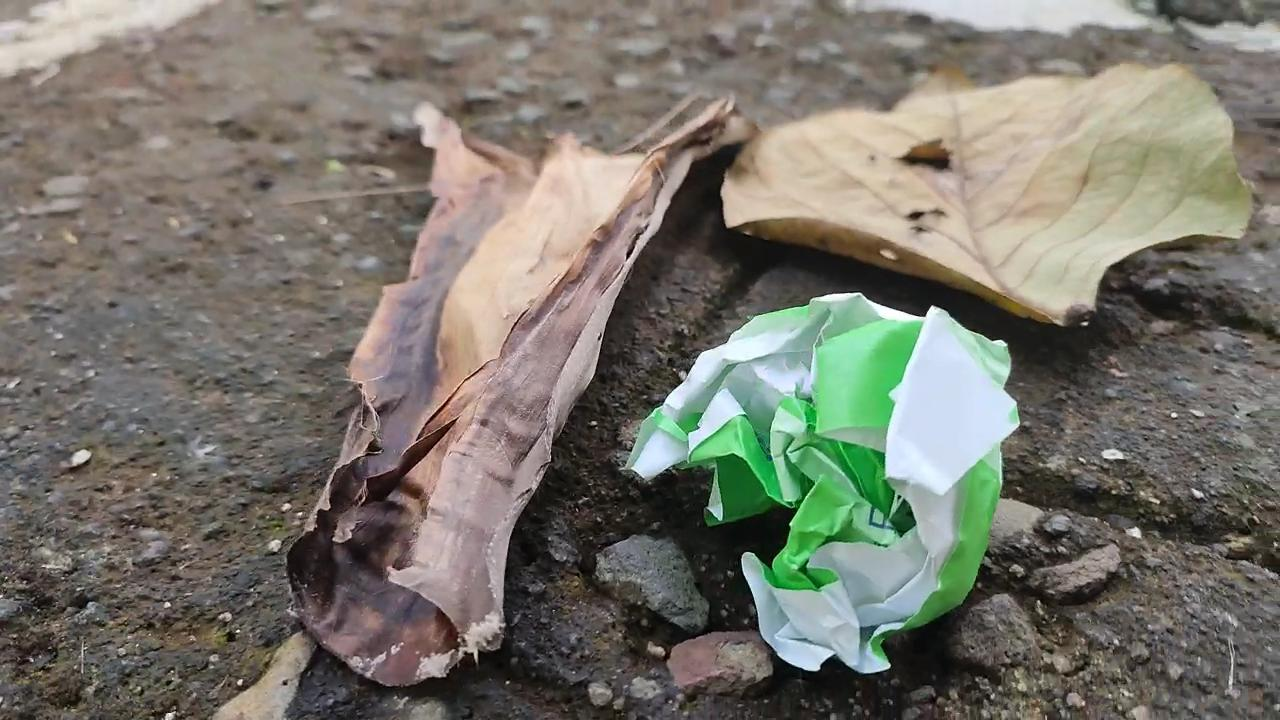Paper: (619, 285, 1022, 691)
